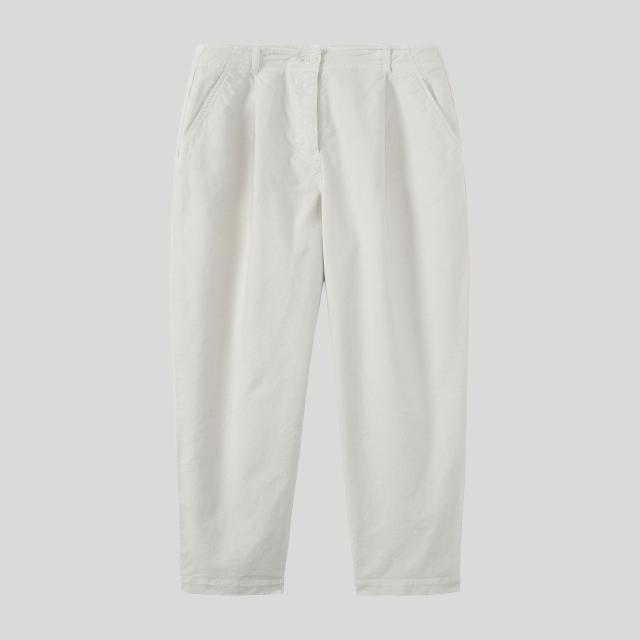long-pants: (168, 43, 475, 600)
